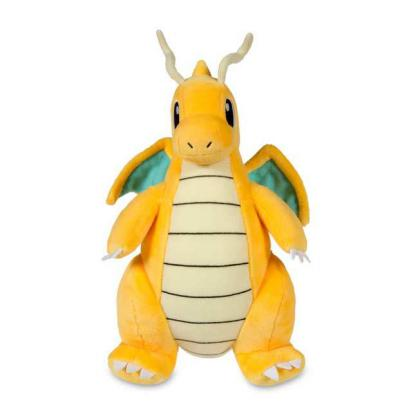Dragonite: (90, 25, 365, 401)
